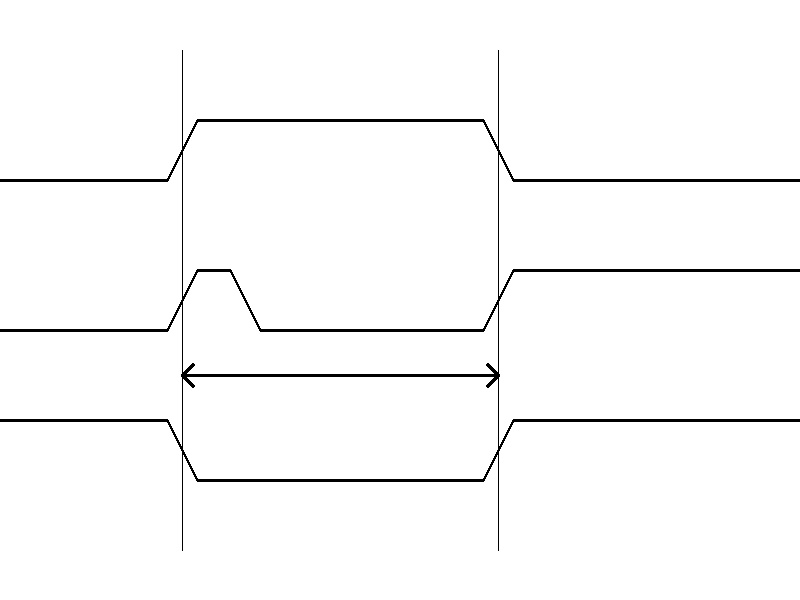double_arrow: (182, 360, 498, 390)
